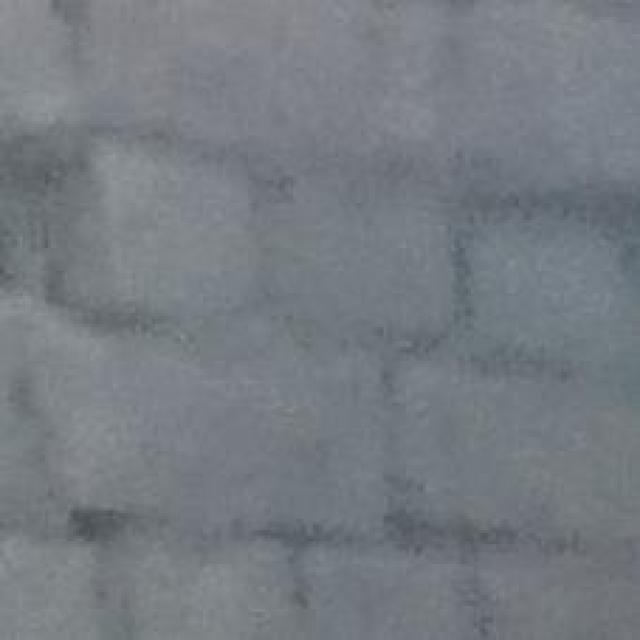Crack: (0, 104, 544, 640)
